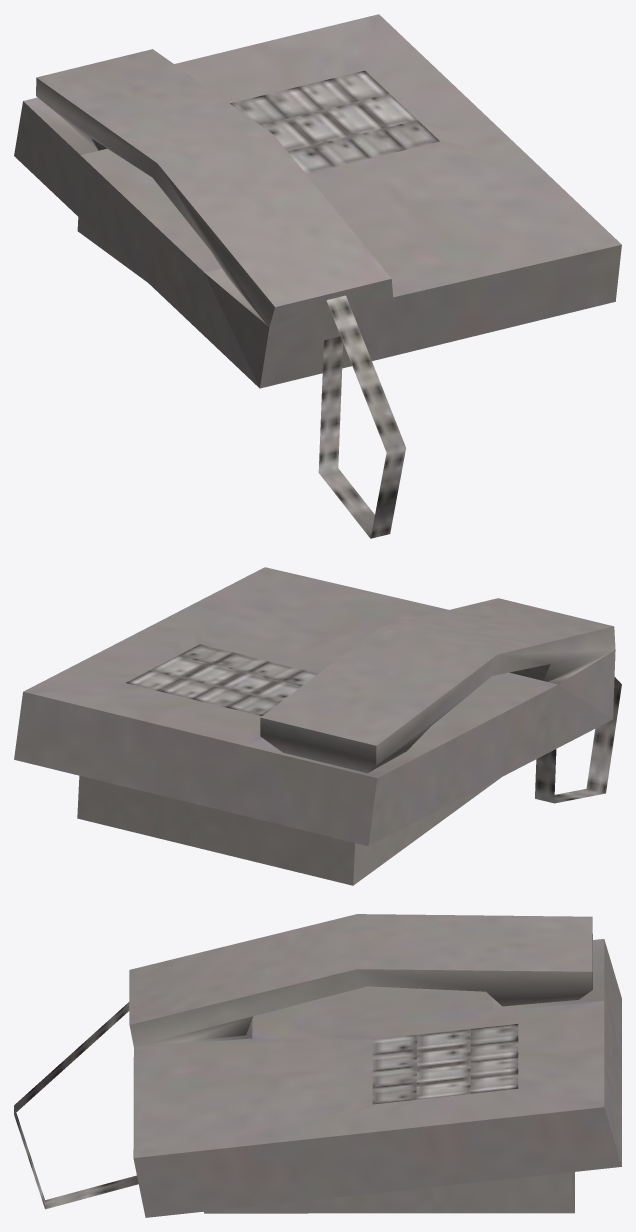
Rendered from M_Home_Garden_phone1.fbx.
3 views of the same model, one above another, from view 1: azimuth 30°, elevation 25°; view 2: azimuth 150°, elevation 25°; view 3: azimuth 270°, elevation 25° (orthographic). The views are drawn at different scales.
Parts seen in each view (by area): view 1: M_Home_Garden_phone1; view 2: M_Home_Garden_phone1; view 3: M_Home_Garden_phone1.
Part boxes in pixels (<box>): M_Home_Garden_phone1: <box>14,14,621,538</box>; M_Home_Garden_phone1: <box>14,567,621,885</box>; M_Home_Garden_phone1: <box>14,914,621,1217</box>.
Bounding box in the file's own units: 32 × 23.2 × 48.86.
